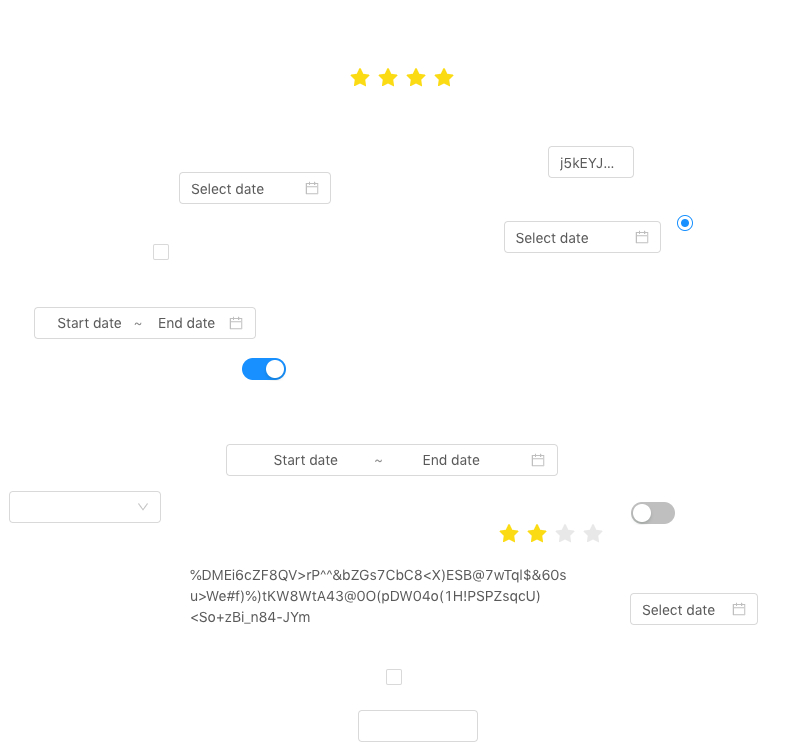Checkbox: (153, 241, 169, 262), (386, 666, 402, 687)
DatePicker: (504, 221, 661, 253), (179, 172, 331, 204), (630, 593, 758, 625)
Input: (358, 710, 478, 742), (548, 146, 634, 178)
Radio: (677, 212, 693, 232)
RangePicker: (226, 444, 560, 476), (34, 307, 256, 339)
Rate: (350, 61, 470, 93), (499, 517, 619, 549)
Select: (9, 491, 161, 523)
Switch: (631, 501, 675, 525), (242, 357, 286, 381)
Text: (190, 564, 570, 647)
